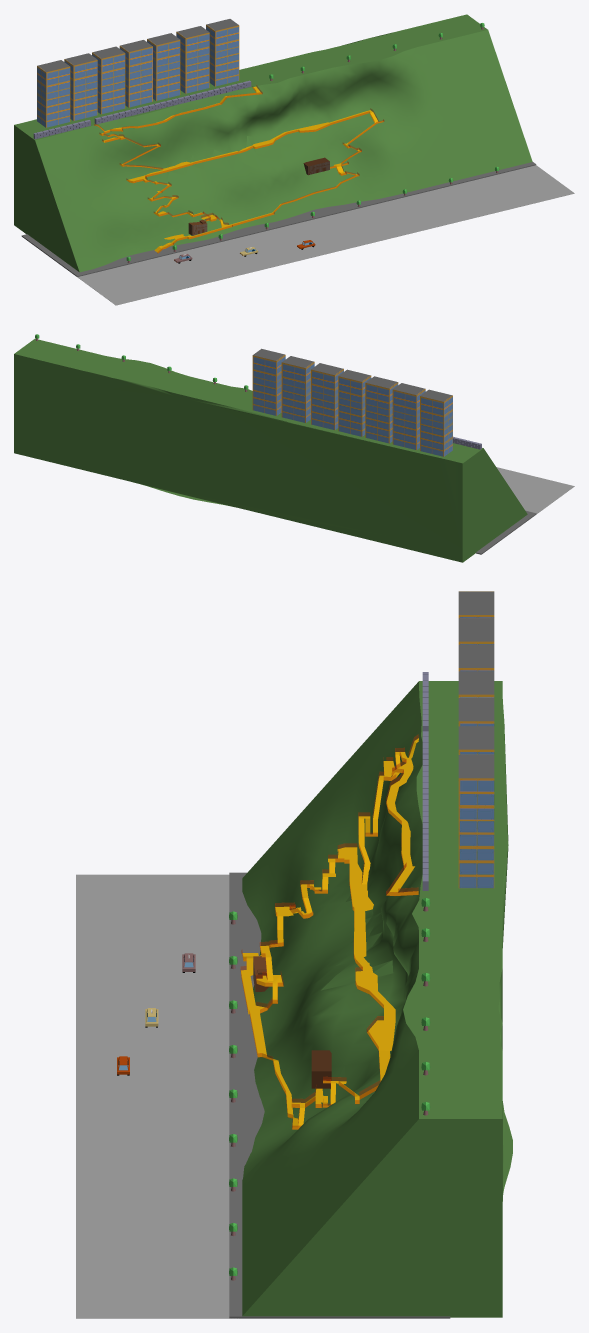
Rendered from main.glb.
The picture shows the model from 3 angles, top to bottom: view 1: azimuth 30°, elevation 25°; view 2: azimuth 150°, elevation 25°; view 3: azimuth 270°, elevation 25°; orthographic projection. The views are drawn at different scales.
Parts seen in each view (by area): view 1: Box001, Box019, Box018, Plane002, 栏杆, Box010, Box017, Box016, Box013, Box012, Box015, Box014 (+1 smaller); view 2: Box001, Box010, Box016, Box017, Box012, Box013, Box014, Box015, Box019, Box018; view 3: Box001, Box019, Plane002, Box018, Box017, 栏杆, Box011, Box015, Box016, Box013, Box010, Box012 (+1 smaller).
Boxes of the visible parts, <box> form: Box001: <box>14,14,532,272</box>; Box019: <box>77,165,574,305</box>; Box018: <box>21,162,536,276</box>; Plane002: <box>95,86,383,252</box>; 栏杆: <box>94,85,384,253</box>; Box010: <box>37,60,70,127</box>; Box017: <box>206,19,239,86</box>; Box016: <box>176,26,209,93</box>; Box013: <box>92,46,125,114</box>; Box012: <box>64,53,97,120</box>; Box015: <box>147,33,180,100</box>; Box014: <box>119,40,152,107</box>; Box001: <box>14,338,527,562</box>; Box010: <box>420,389,452,456</box>; Box016: <box>281,356,314,422</box>; Box017: <box>252,348,285,415</box>; Box012: <box>392,383,425,450</box>; Box013: <box>365,376,398,443</box>; Box014: <box>338,369,371,436</box>; Box015: <box>311,363,343,430</box>; Box019: <box>496,467,574,515</box>; Box018: <box>476,510,536,554</box>; Box001: <box>242,681,512,1317</box>; Box019: <box>76,874,238,1318</box>; Plane002: <box>241,738,418,1129</box>; Box018: <box>229,872,450,1318</box>; Box017: <box>458,754,494,888</box>; 栏杆: <box>240,734,418,1129</box>; Box011: <box>422,672,428,890</box>; Box015: <box>458,697,494,726</box>; Box016: <box>458,726,494,754</box>; Box013: <box>458,644,494,671</box>; Box010: <box>458,591,494,617</box>; Box012: <box>458,618,494,644</box>.
Size of the model in its own units: 65.09 by 21.14 by 27.08.
Materials: 15 (3 with a texture image).
